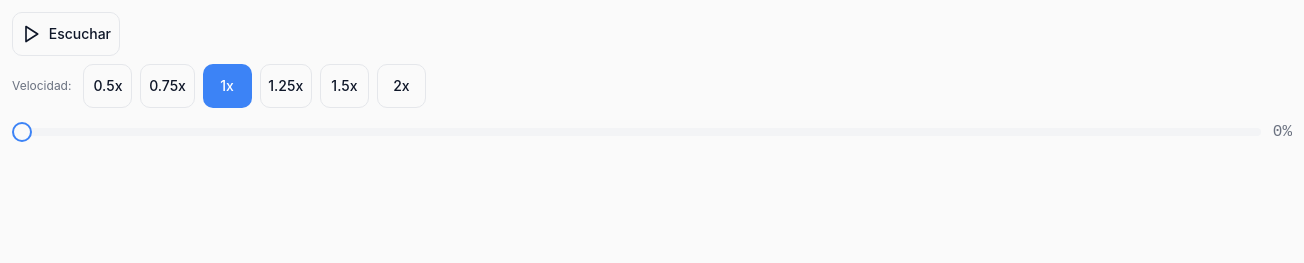
manual lesson reading › keeps narration, all six speeds and current passage available for a visual-mode student
The width and height of the screenshot is (1304, 263).
Expected: the button "0.5x" is enabled, [83,64,132,108]
Expected: the button "0.75x" is enabled, [140,64,195,108]
Click the button "Escuchar" at (66, 34), box [12,12,120,56]
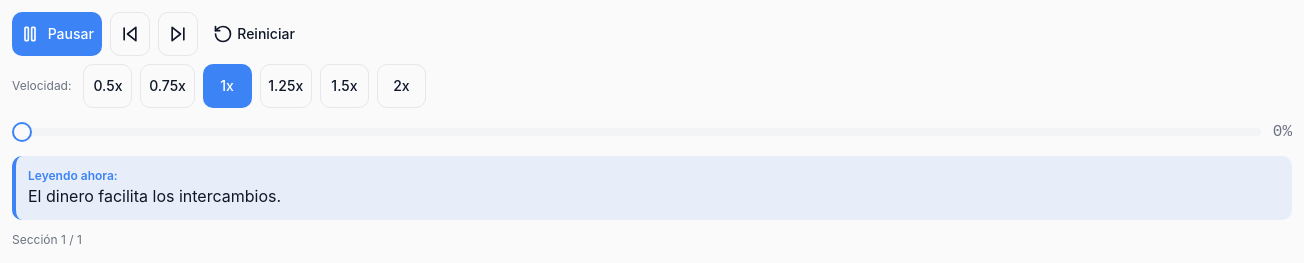
Expected: the slider named "Progreso de lectura" is shown, [12,122,32,142]
Expected: the text "Leyendo ahora" is shown, [28,168,114,183]
Expected: the text "El dinero facilita los intercambios." is shown, [28,186,281,206]
